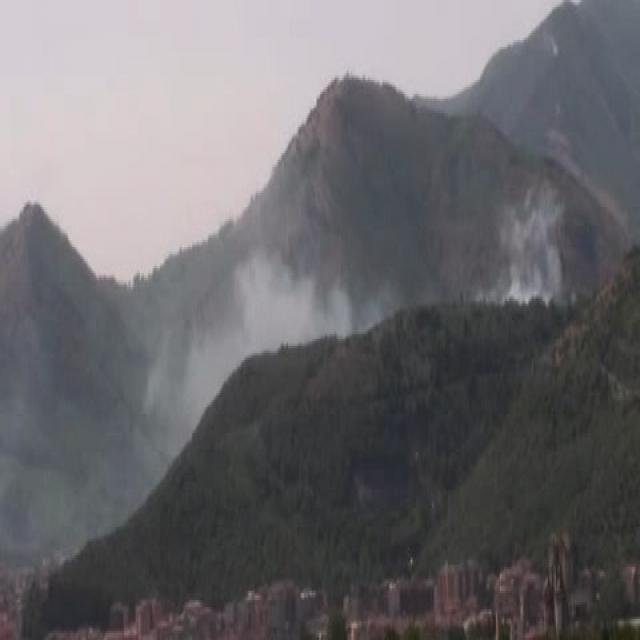smoke: (232, 248, 344, 346), (477, 191, 576, 301)
